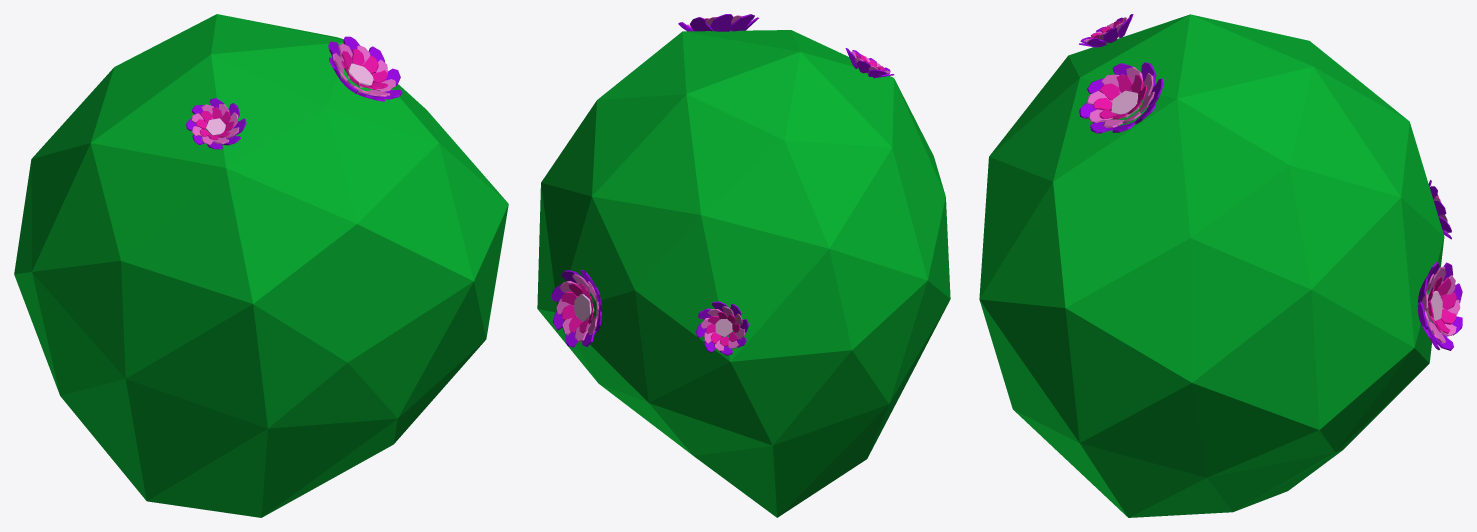
Rendered from zbun 3.fbx.
The picture shows the model from 3 angles, left to right: view 1: azimuth 30°, elevation 25°; view 2: azimuth 150°, elevation 25°; view 3: azimuth 270°, elevation 25°; orthographic projection. The views are drawn at different scales.
Parts seen in each view (by area): view 1: Cylinder.061; view 2: Cylinder.061; view 3: Cylinder.061.
Part boxes in pixels (x1=…): Cylinder.061: x1=14, y1=14, x2=508, y2=517; Cylinder.061: x1=537, y1=14, x2=950, y2=517; Cylinder.061: x1=979, y1=14, x2=1462, y2=517.
Size of the model in its own units: 278 by 302 by 270.
